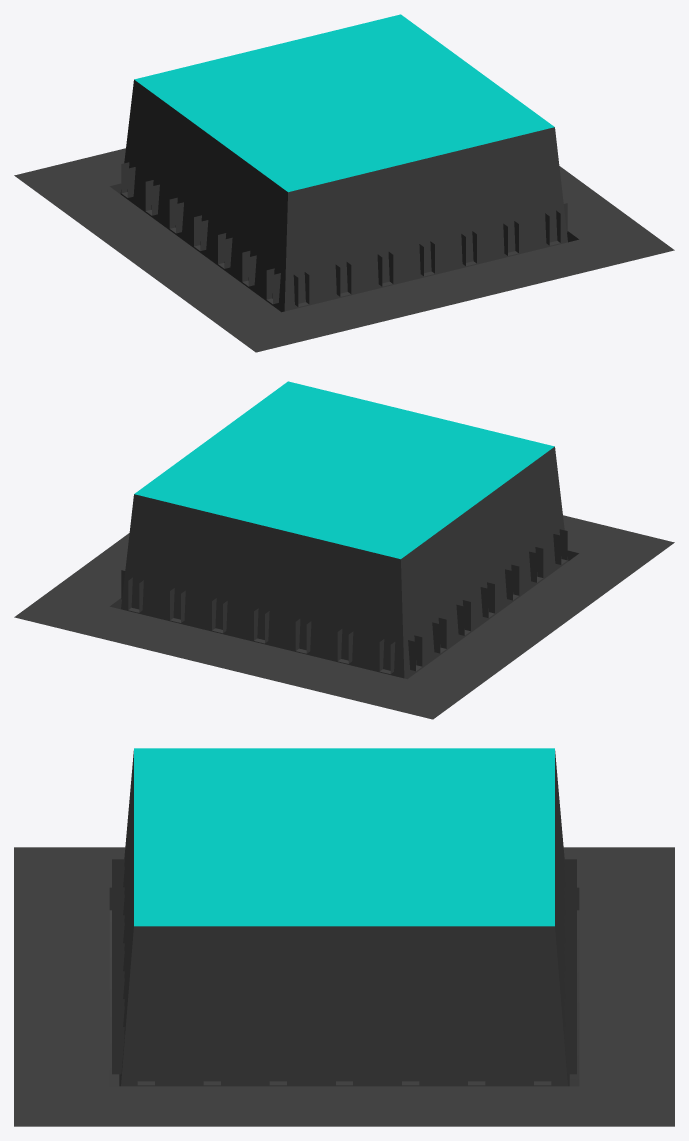
Rendered from M_Panel_Ceiling_Light_4x4.fbx.
3 views of the same model, one above another, from view 1: azimuth 30°, elevation 25°; view 2: azimuth 150°, elevation 25°; view 3: azimuth 270°, elevation 25° (orthographic). The views are drawn at different scales.
Parts seen in each view (by area): view 1: Panel_Ceiling_Skylight_4x4; view 2: Panel_Ceiling_Skylight_4x4; view 3: Panel_Ceiling_Skylight_4x4.
Part boxes in pixels (x1,y1,x2,y2): Panel_Ceiling_Skylight_4x4: (14,14,674,352); Panel_Ceiling_Skylight_4x4: (14,381,674,719); Panel_Ceiling_Skylight_4x4: (14,748,674,1126).
Size of the model in its own units: 400 by 117 by 400.
